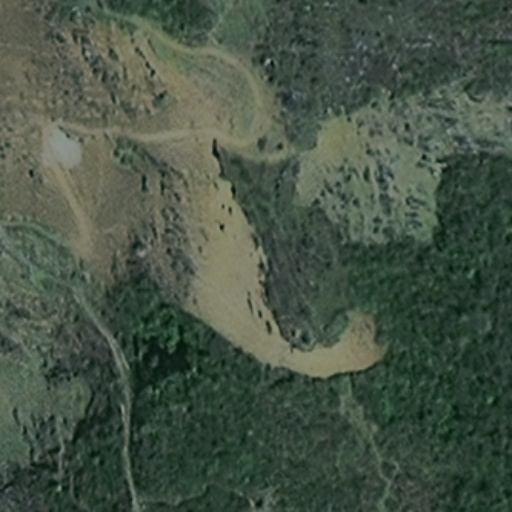landslide: (172, 176, 388, 375)
